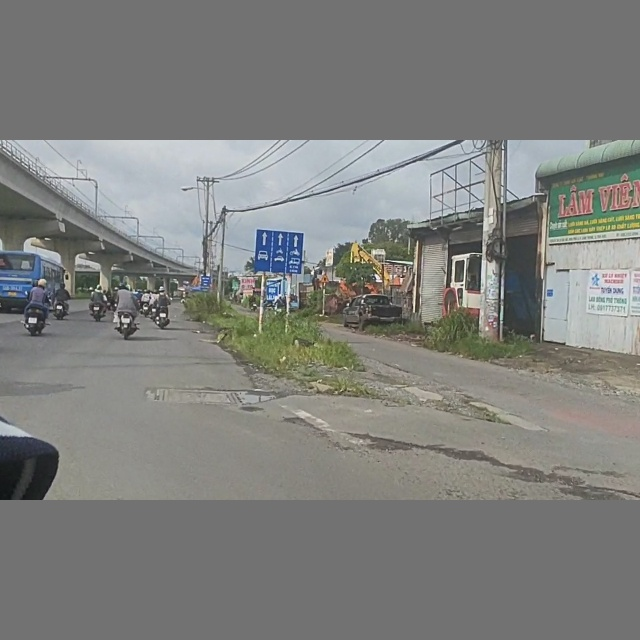R.415a: (253, 225, 306, 275)
W.207: (319, 273, 331, 283)
